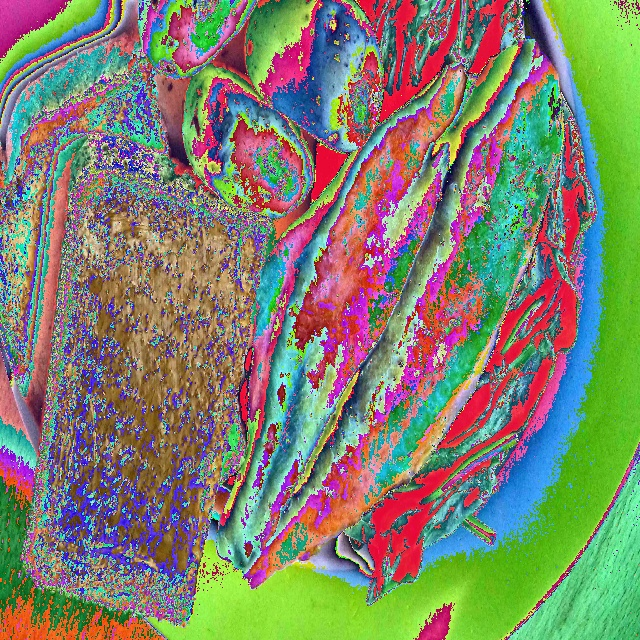background: (0, 0, 598, 628)
